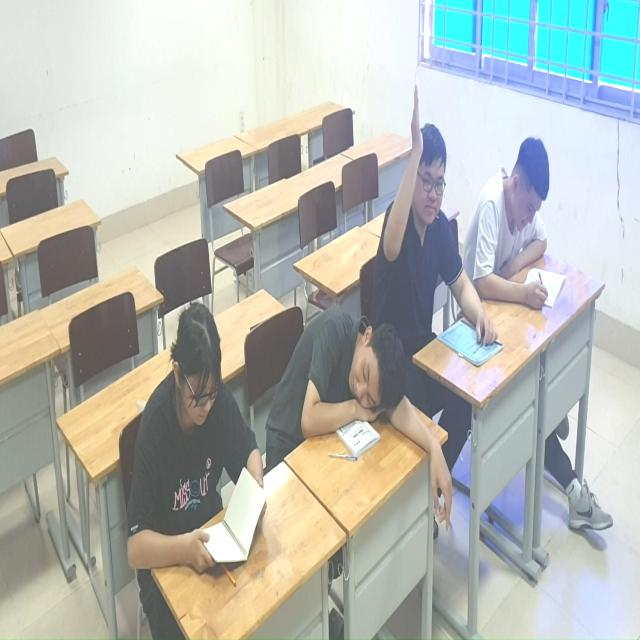raise_hand: (384, 80, 457, 351)
read: (127, 273, 272, 593), (472, 135, 571, 327)
sleep: (296, 300, 458, 546)
